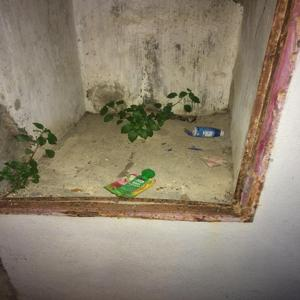metal: (189, 122, 226, 139)
plastic: (99, 162, 156, 203)
